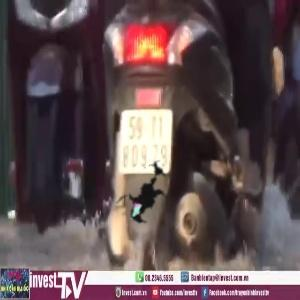drone: (93, 141, 194, 242)
